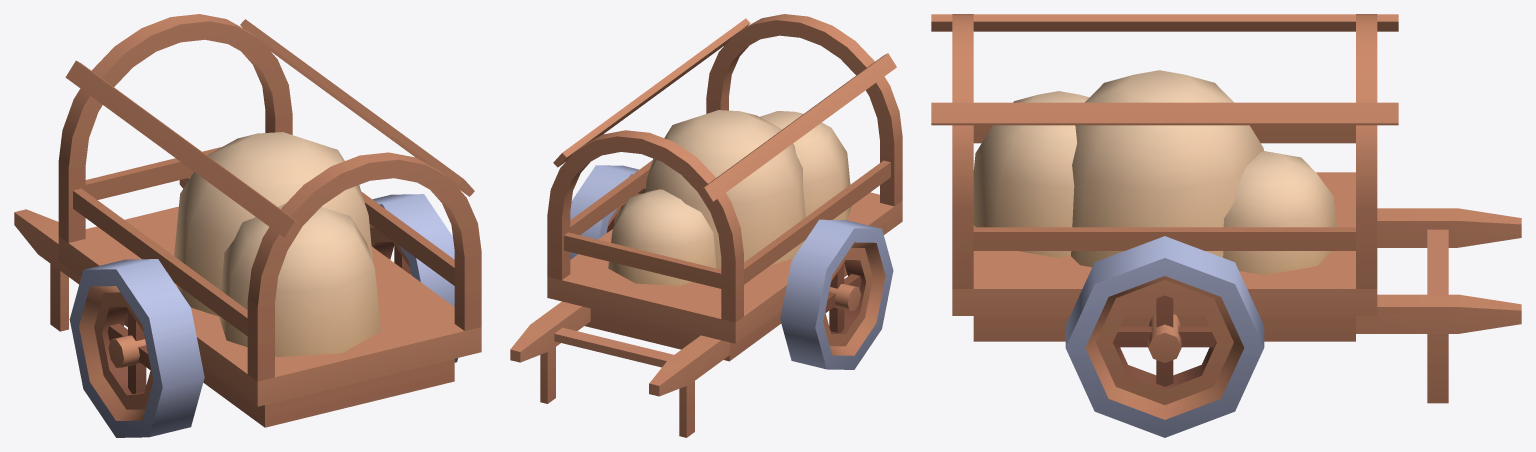
The model's file is tall_cart.glb.
The picture shows the model from 3 angles, left to right: view 1: azimuth 30°, elevation 25°; view 2: azimuth 150°, elevation 25°; view 3: azimuth 270°, elevation 25°; orthographic projection. The views are drawn at different scales.
Visible parts, largest first — view 1: cart-high; view 2: cart-high; view 3: cart-high.
Part boxes in pixels (left/top/right/bottom): cart-high: left=14, top=14, right=481, bottom=437; cart-high: left=510, top=14, right=902, bottom=437; cart-high: left=931, top=14, right=1521, bottom=437.
Bounding box in the file's own units: 0.893 × 0.8605 × 1.39.
1 material, 1 textured.
